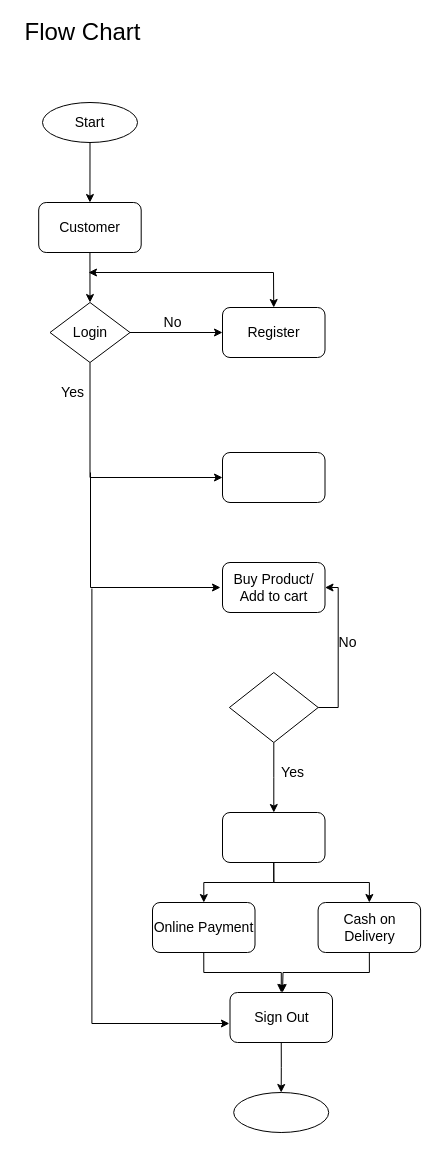
This 438x1150 diagram has some shape labels left out. The shapes that lost their labels are listed below. From the top down, each one's centre as x and y in pixels, then its label:
At point (273, 477): "View Product".
At point (273, 707): "Make Payment".
At point (273, 837): "Payment Type".
At point (281, 1112): "End".
